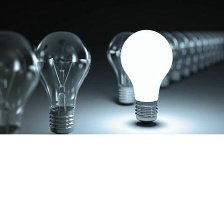light_bulb: (34, 26, 94, 134), (0, 27, 44, 156), (118, 28, 174, 126), (102, 27, 149, 109)
